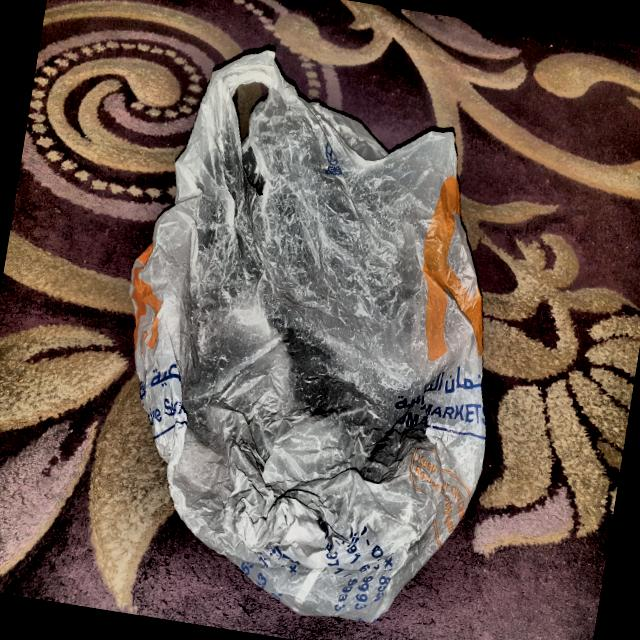plastic bag: (69, 28, 560, 640)
